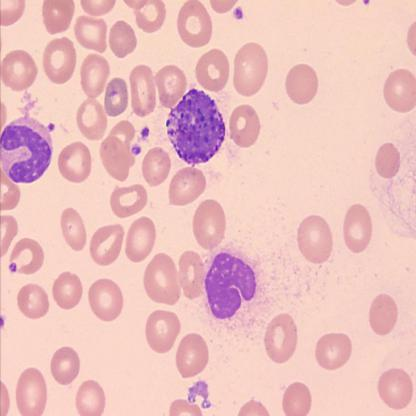Basophil: (164, 87, 228, 174), (201, 246, 261, 325)
